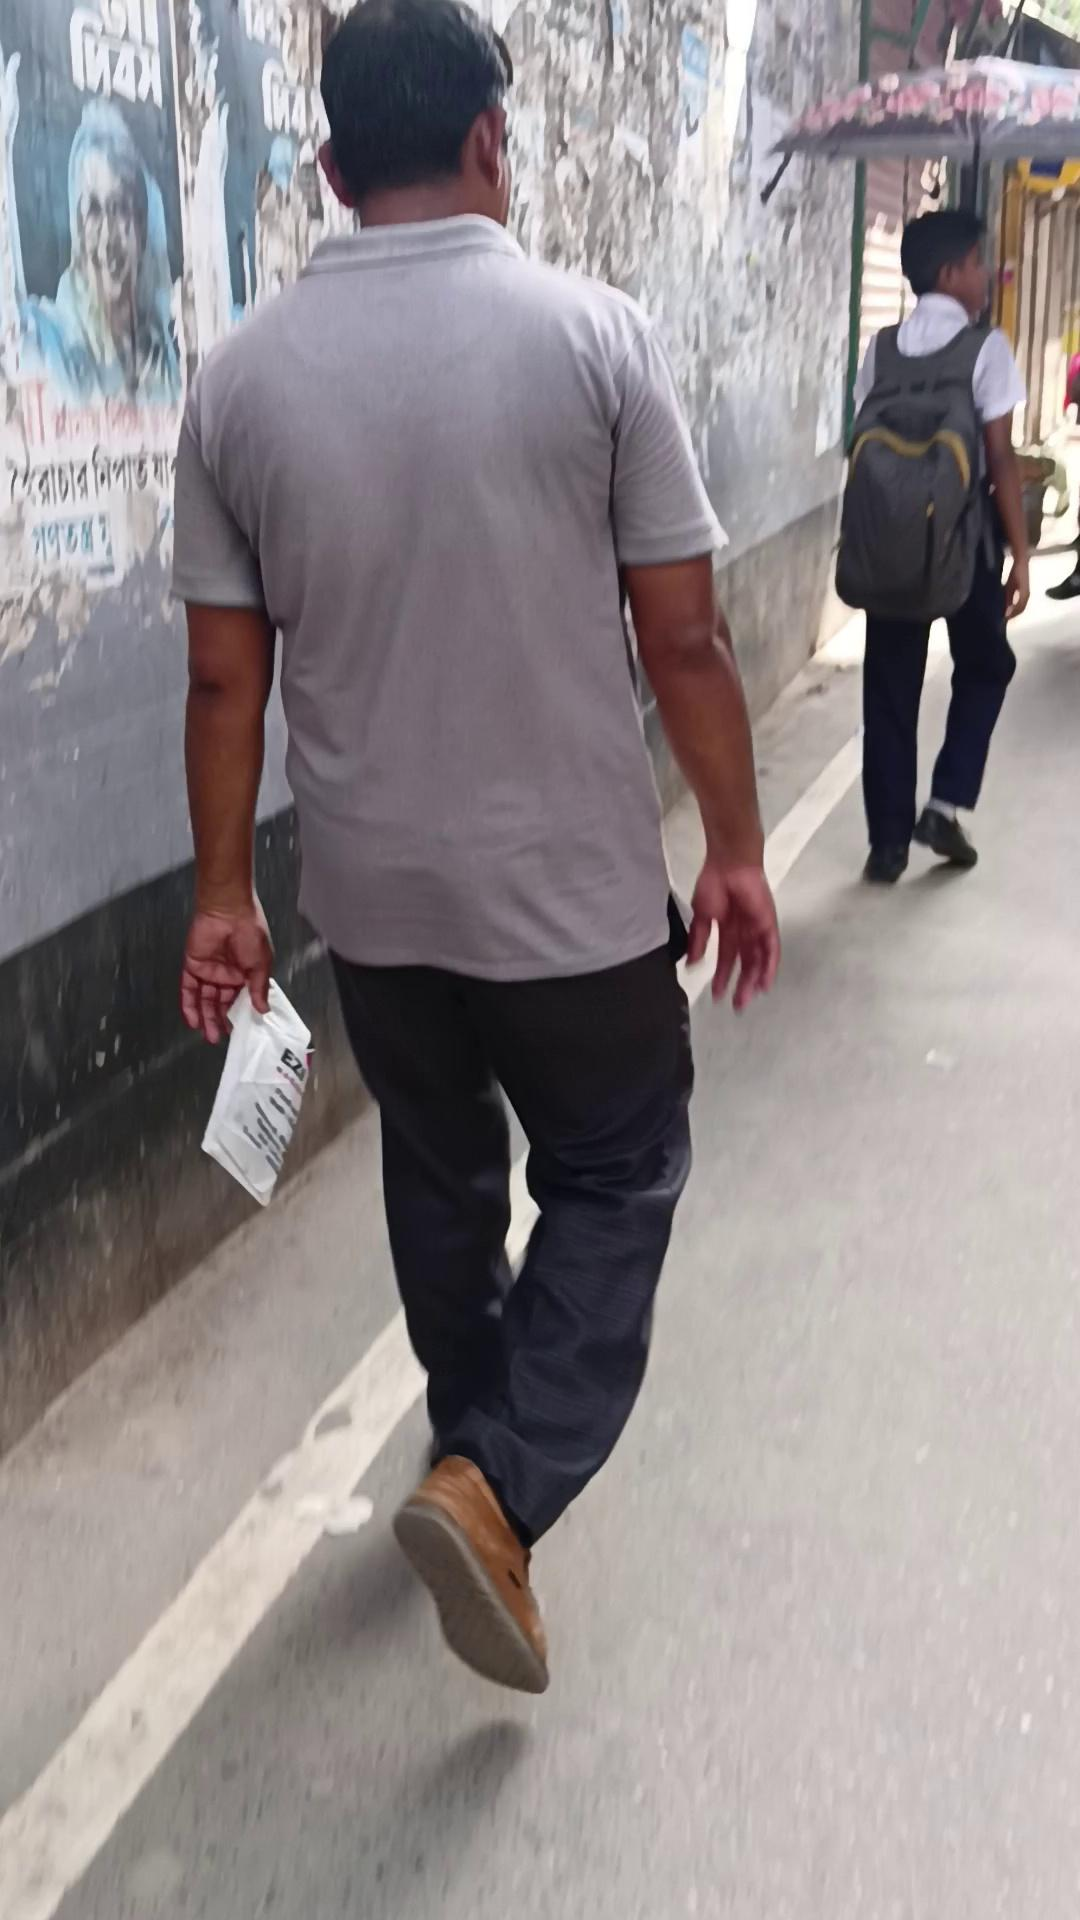Muddy road: (169, 1, 781, 1695), (833, 208, 1031, 884), (33, 94, 183, 411), (1044, 351, 1079, 599)
Potted-plant: (3, 524, 1077, 1915)
